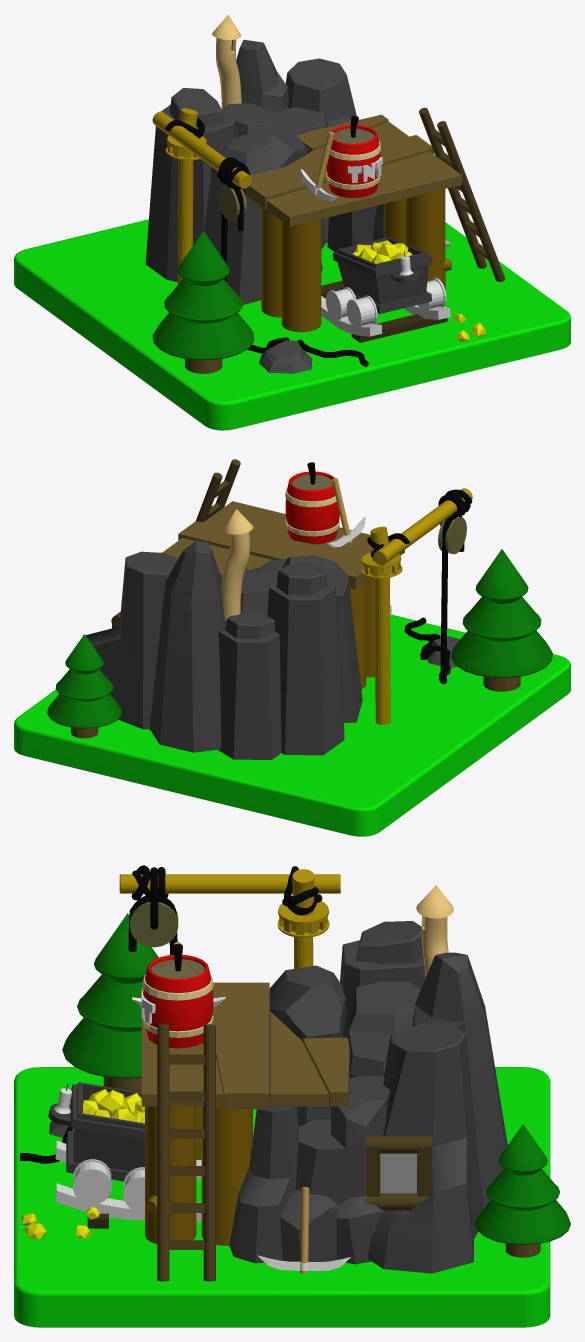
Rendered from GMfixed.fbx.
3 renders of one model, top to bottom at view 1: azimuth 30°, elevation 25°; view 2: azimuth 150°, elevation 25°; view 3: azimuth 270°, elevation 25°, orthographic. The views are drawn at different scales.
Parts seen in each view (by area): view 1: Base, Woodtop, polySurface4, Rocks3, Rock1, Log2, polySurface25, Cranepole1, Rocks2, Ladder, polySurface1, Rocks5 (+16 smaller); view 2: Base, Rocks5, Rocks3, Rocks6, Rocks2, polySurface4, Woodtop, Cranepole1, polySurface6, Rock1, polySurface36, polySurface20 (+9 smaller); view 3: Base, Rocks2, Woodtop, Ladder, polySurface4, Rocks5, Rocks7, Rocks4, polySurface6, Cranepole1, Rock1, polySurface25 (+20 smaller).
Boxes of the visible parts, x1=… form: Base: x1=14, y1=219, x2=570, y2=430; Woodtop: x1=244, y1=114, x2=462, y2=226; polySurface4: x1=152, y1=231, x2=254, y2=360; Rocks3: x1=145, y1=88, x2=237, y2=282; Rock1: x1=204, y1=131, x2=322, y2=304; Log2: x1=281, y1=219, x2=321, y2=332; polySurface25: x1=333, y1=237, x2=432, y2=313; Cranepole1: x1=152, y1=108, x2=251, y2=284; Rocks2: x1=285, y1=58, x2=356, y2=243; Ladder: x1=419, y1=107, x2=505, y2=281; polySurface1: x1=405, y1=189, x2=451, y2=290; Rocks5: x1=236, y1=39, x2=325, y2=249; Base: x1=14, y1=614, x2=570, y2=836; Rocks5: x1=149, y1=541, x2=226, y2=752; Rocks3: x1=267, y1=560, x2=344, y2=755; Rocks6: x1=218, y1=613, x2=281, y2=759; Rocks2: x1=86, y1=551, x2=178, y2=729; polySurface4: x1=451, y1=549, x2=552, y2=678; Woodtop: x1=162, y1=501, x2=404, y2=589; Cranepole1: x1=361, y1=488, x2=472, y2=724; polySurface6: x1=47, y1=634, x2=121, y2=728; Rock1: x1=255, y1=555, x2=362, y2=722; polySurface36: x1=285, y1=471, x2=339, y2=544; polySurface20: x1=221, y1=509, x2=253, y2=621; Base: x1=14, y1=1067, x2=550, y2=1327; Rocks2: x1=367, y1=1024, x2=483, y2=1273; Woodtop: x1=141, y1=982, x2=349, y2=1109; Ladder: x1=157, y1=1024, x2=215, y2=1281; polySurface4: x1=62, y1=913, x2=158, y2=1078; Rocks5: x1=412, y1=952, x2=507, y2=1208; Rocks7: x1=295, y1=1076, x2=389, y2=1204; Rocks4: x1=229, y1=1100, x2=299, y2=1263; polySurface6: x1=475, y1=1124, x2=570, y2=1244; Cranepole1: x1=119, y1=869, x2=340, y2=968; Rock1: x1=269, y1=965, x2=345, y2=1126; polySurface25: x1=48, y1=1082, x2=144, y2=1181.
Bounding box in the file's own units: 14.16 × 9.21 × 14.23.
